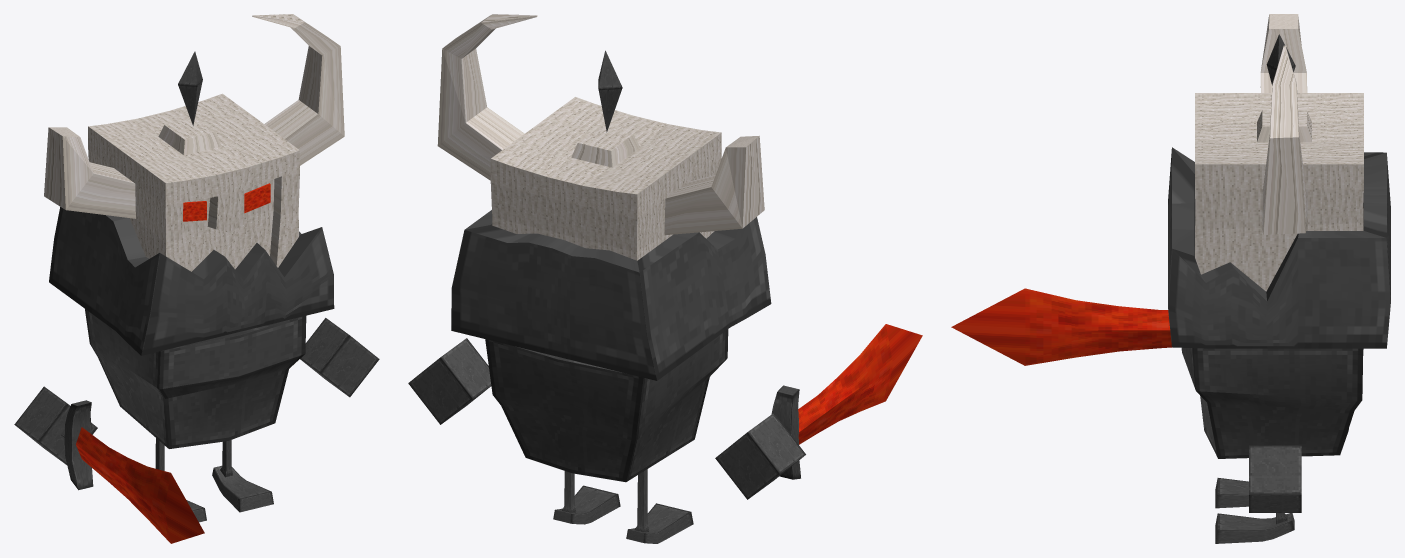
The model's file is Warrior Mage Import.fbx.
3 views of the same model, side by side, from view 1: azimuth 30°, elevation 25°; view 2: azimuth 150°, elevation 25°; view 3: azimuth 270°, elevation 25° (orthographic). The views are drawn at different scales.
Parts seen in each view (by area): view 1: Head, Jaw, Body, Sword, L_Hand, R_Hand, L_Foot, Decor, L_Eye, R_Eye; view 2: Head, Jaw, Body, Sword, R_Hand, L_Hand, R_Foot, L_Foot, Decor, R_Leg; view 3: Head, Jaw, Body, Sword, L_Hand, L_Foot, R_Foot.
Boxes of the visible parts, x1=… form: Head: x1=44, y1=14, x2=344, y2=271; Jaw: x1=49, y1=207, x2=334, y2=355; Body: x1=85, y1=309, x2=306, y2=448; Sword: x1=61, y1=400, x2=204, y2=543; L_Hand: x1=300, y1=318, x2=379, y2=397; R_Hand: x1=14, y1=386, x2=97, y2=464; L_Foot: x1=212, y1=465, x2=273, y2=512; Decor: x1=178, y1=51, x2=202, y2=125; L_Eye: x1=244, y1=183, x2=270, y2=213; R_Eye: x1=183, y1=201, x2=206, y2=221; Head: x1=437, y1=14, x2=764, y2=260; Jaw: x1=451, y1=210, x2=771, y2=380; Body: x1=485, y1=329, x2=728, y2=482; Sword: x1=771, y1=324, x2=922, y2=479; R_Hand: x1=715, y1=413, x2=805, y2=499; L_Hand: x1=408, y1=338, x2=491, y2=424; R_Foot: x1=626, y1=503, x2=693, y2=543; L_Foot: x1=553, y1=485, x2=620, y2=524; Decor: x1=598, y1=50, x2=622, y2=132; R_Leg: x1=635, y1=469, x2=648, y2=532; Head: x1=1195, y1=14, x2=1363, y2=291; Jaw: x1=1168, y1=147, x2=1390, y2=348; Body: x1=1181, y1=347, x2=1363, y2=458; Sword: x1=951, y1=288, x2=1172, y2=365; L_Hand: x1=1249, y1=445, x2=1301, y2=512; L_Foot: x1=1215, y1=513, x2=1294, y2=543; R_Foot: x1=1215, y1=478, x2=1248, y2=508.
Bounding box in the file's own units: 93.37 × 121 × 95.7.
4 materials, 4 textured.
